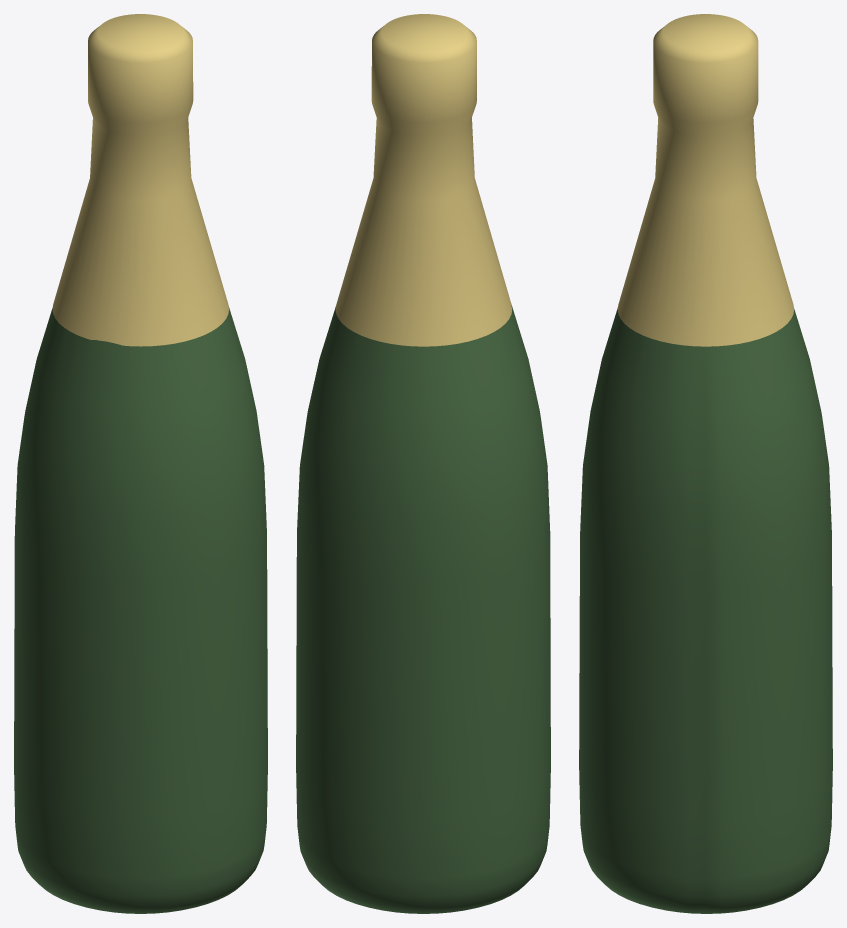
File: bottle_champagne_broken.glb
The picture shows the model from 3 angles, left to right: view 1: azimuth 30°, elevation 25°; view 2: azimuth 150°, elevation 25°; view 3: azimuth 270°, elevation 25°; orthographic projection.
Visible parts, largest first — view 1: Glass.001, Cap; view 2: Glass.001, Cap; view 3: Glass.001, Cap.
Part boxes in pixels (<box>): Glass.001: <box>14,306,267,913</box>; Cap: <box>52,14,228,346</box>; Glass.001: <box>296,304,550,913</box>; Cap: <box>335,14,511,346</box>; Glass.001: <box>579,307,832,913</box>; Cap: <box>617,14,794,346</box>.
Bounding box in the file's own units: 0.0873 × 0.317 × 0.087.
